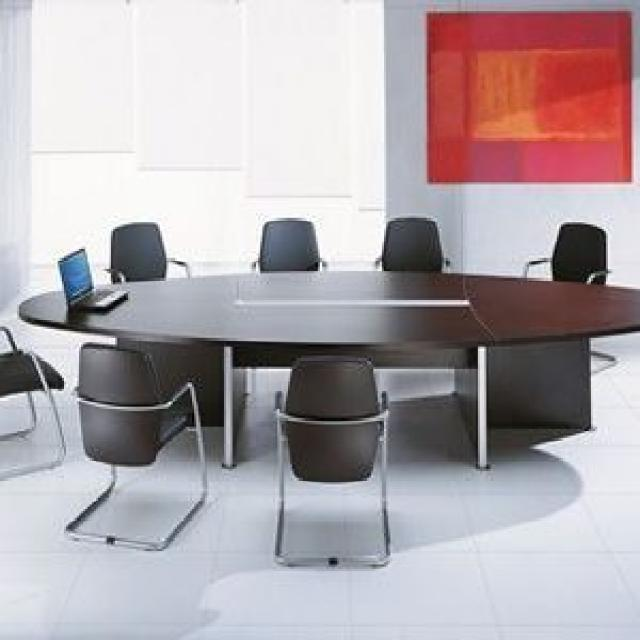chair: (64, 340, 207, 551), (271, 353, 390, 567), (520, 220, 616, 373)
